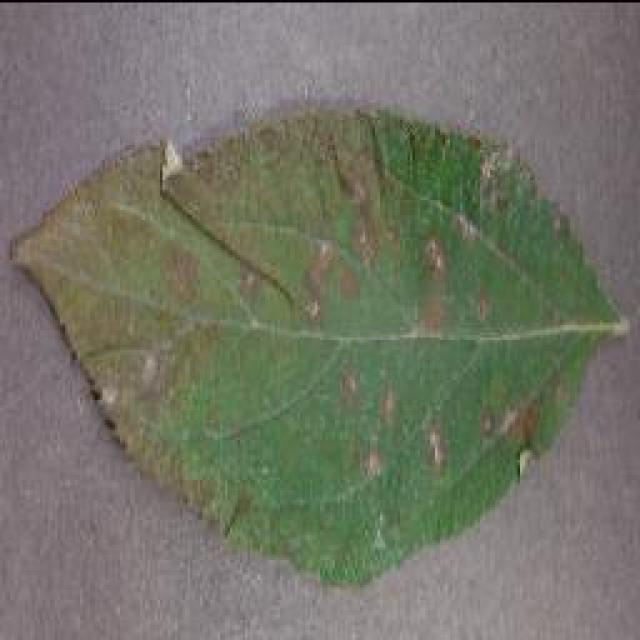apple rust disease: (8, 100, 630, 588)
